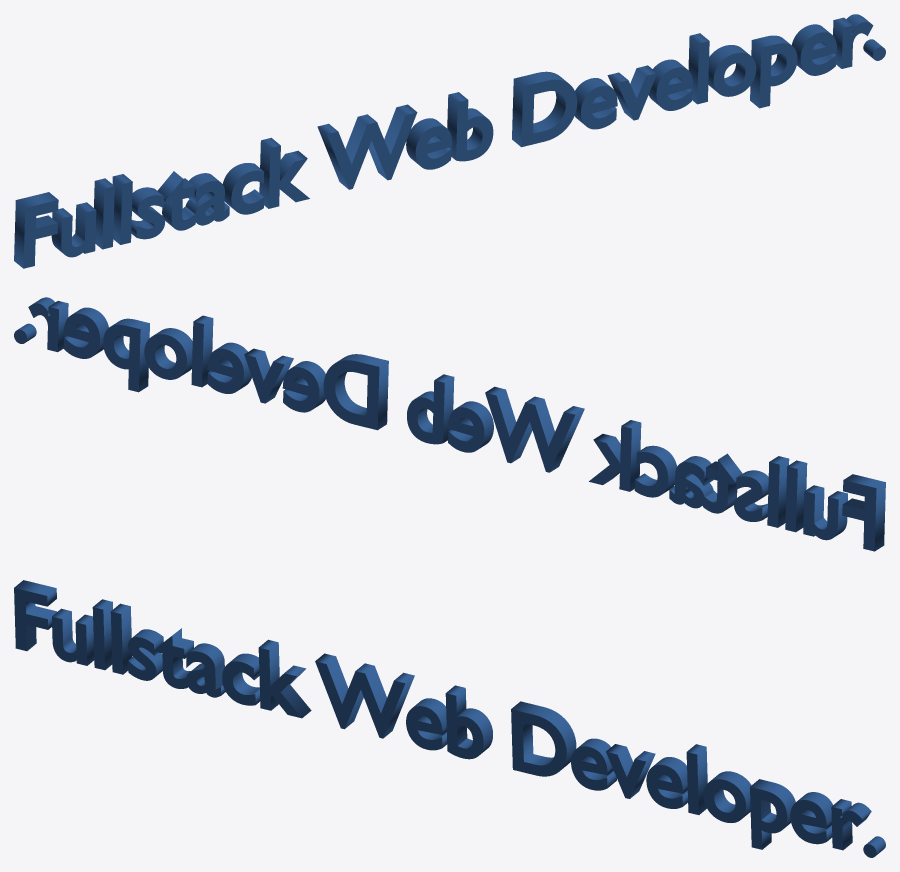
File: fullstack.glb
The picture shows the model from 3 angles, top to bottom: view 1: azimuth 30°, elevation 25°; view 2: azimuth 150°, elevation 25°; view 3: azimuth 330°, elevation 25°; orthographic projection.
Parts seen in each view (by area): view 1: Text; view 2: Text; view 3: Text.
Part boxes in pixels (box(x1,y1,x2,y2)): Text: box(14, 14, 885, 268); Text: box(14, 297, 885, 551); Text: box(14, 580, 885, 857).
Size of the model in its own units: 10.47 by 0.9612 by 0.25.
